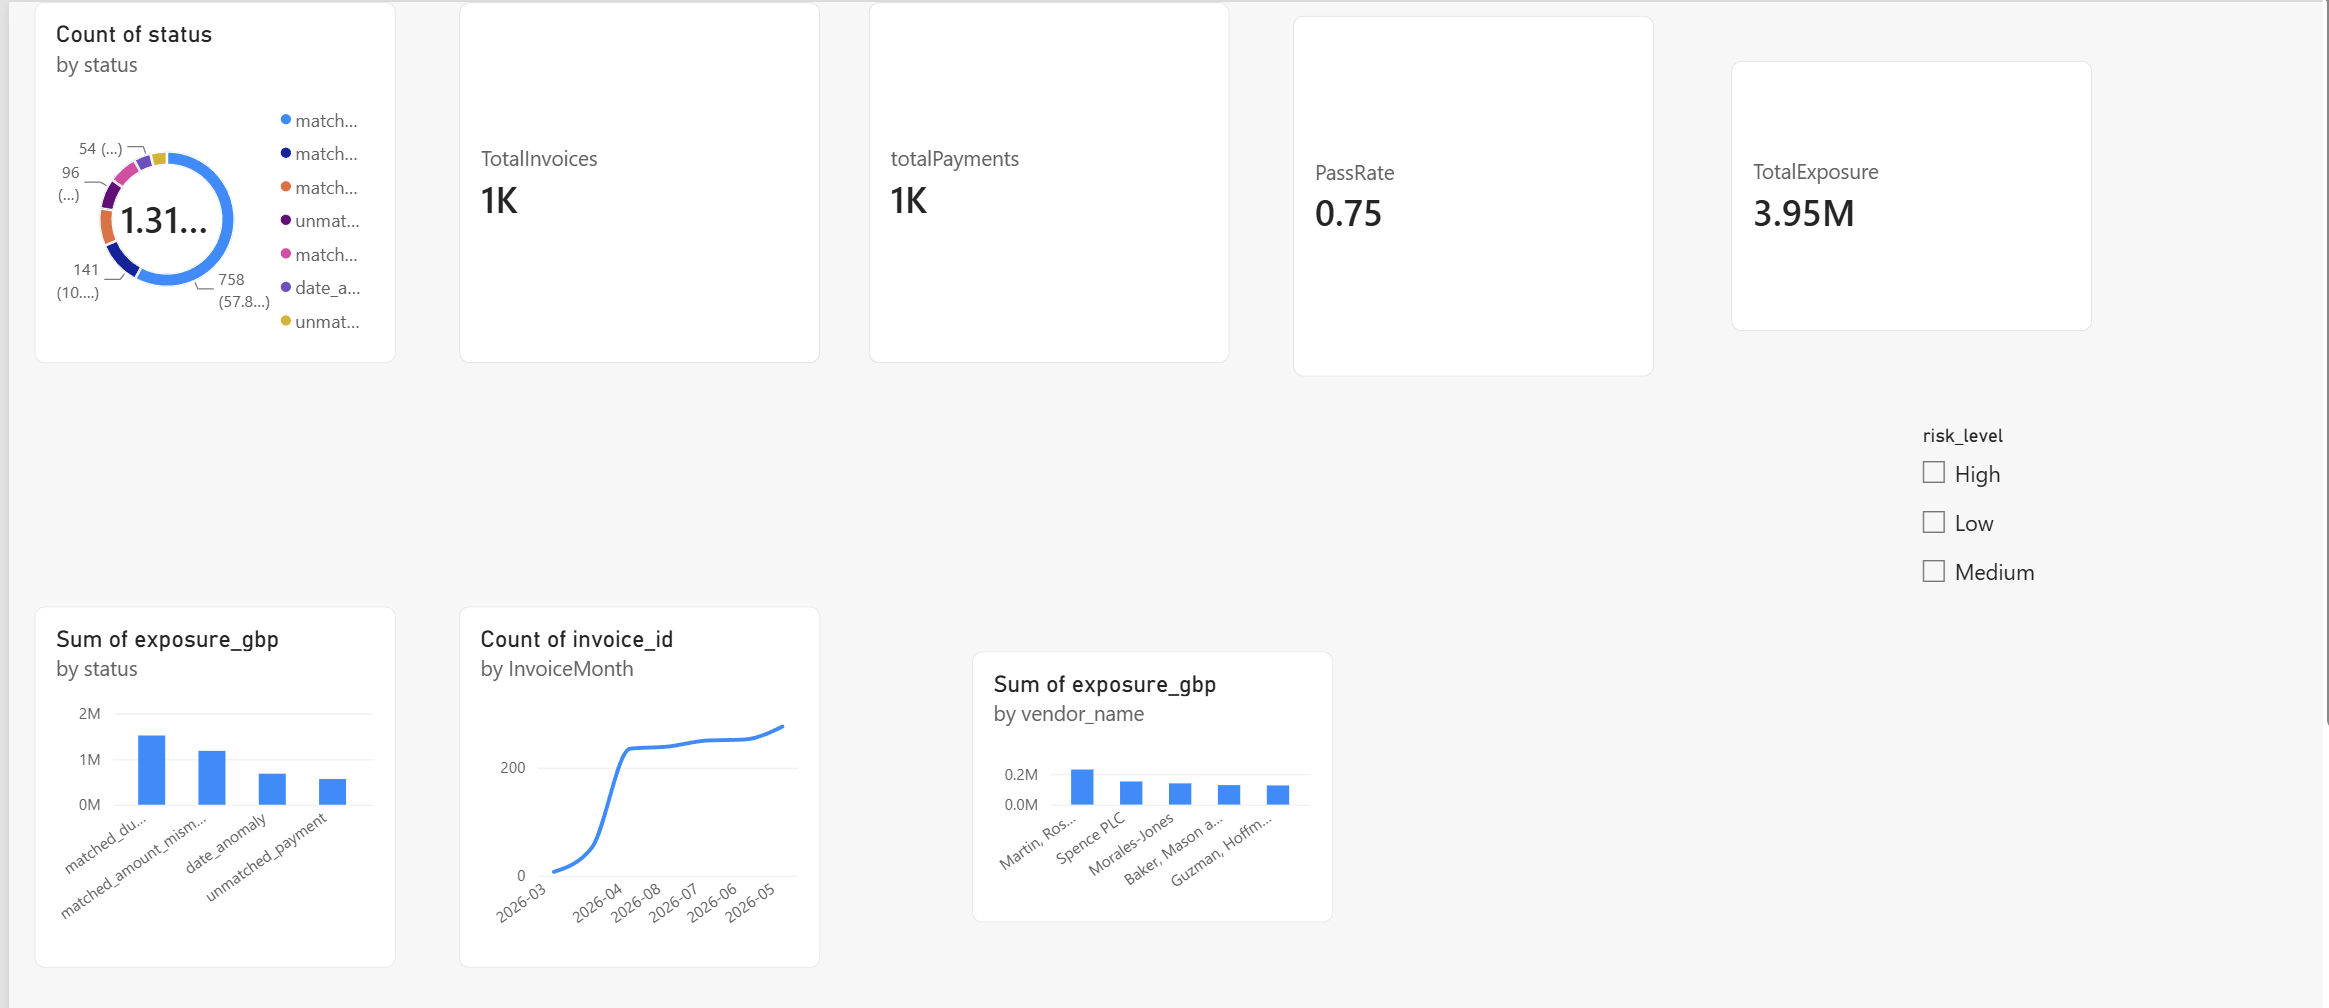

The dashboard page shown, as its layout file describes it:
{"tool":"powerbi","page":{"name":"Page 1","canvas":[1920,1080],"ordinal":0},"visuals":[{"type":"donutChart","fields":{"Category":["master_reconciliation_export.status"],"Y":["CountNonNull(master_reconciliation_export.status)"]},"box":[20,0,280,280],"z":0},{"type":"clusteredColumnChart","fields":{"Category":["master_reconciliation_export.status"],"Y":["Sum(master_reconciliation_export.exposure_gbp)"]},"box":[20,468.3,280,280],"z":1000},{"type":"lineChart","fields":{"Category":["master_reconciliation_export.InvoiceMonth"],"Y":["CountNonNull(master_reconciliation_export.invoice_id)"]},"box":[348.3,468.3,280,280],"z":2000},{"type":"clusteredColumnChart","fields":{"Category":["master_reconciliation_export.vendor_name"],"Y":["Sum(master_reconciliation_export.exposure_gbp)"]},"box":[746.7,503.3,280,210],"z":2001},{"type":"cardVisual","fields":{"Data":["master_reconciliation_export.TotalInvoices"]},"box":[348.3,0,280,280],"z":2002},{"type":"cardVisual","fields":{"Data":["master_reconciliation_export.totalPayments"]},"box":[666.7,0,280,280],"z":2003},{"type":"cardVisual","fields":{"Data":["master_reconciliation_export.PassRate"]},"box":[995,10,280,280],"z":2004},{"type":"cardVisual","fields":{"Data":["master_reconciliation_export.TotalExposure"]},"box":[1335,45,280,210],"z":2005},{"type":"slicer","fields":{"Values":["master_reconciliation_export.risk_level"]},"box":[1475,328.3,280,280],"z":2006}]}

Visuals, with their boxes on the page's 1920x1080 design canvas (x1, y1, x2, y2). These are canvas units, not pixel positions in the 2329x1008 screenshot, which may show the page scaled, cropped or inside an application window:
donutChart - master_reconciliation_export.status x CountNonNull(master_reconciliation_export.status): pyautogui.locateOnScreen(20, 0, 300, 280)
clusteredColumnChart - master_reconciliation_export.status x Sum(master_reconciliation_export.exposure_gbp): pyautogui.locateOnScreen(20, 468, 300, 748)
lineChart - master_reconciliation_export.InvoiceMonth x CountNonNull(master_reconciliation_export.invoice_id): pyautogui.locateOnScreen(348, 468, 628, 748)
clusteredColumnChart - master_reconciliation_export.vendor_name x Sum(master_reconciliation_export.exposure_gbp): pyautogui.locateOnScreen(747, 503, 1027, 713)
cardVisual - master_reconciliation_export.TotalInvoices: pyautogui.locateOnScreen(348, 0, 628, 280)
cardVisual - master_reconciliation_export.totalPayments: pyautogui.locateOnScreen(667, 0, 947, 280)
cardVisual - master_reconciliation_export.PassRate: pyautogui.locateOnScreen(995, 10, 1275, 290)
cardVisual - master_reconciliation_export.TotalExposure: pyautogui.locateOnScreen(1335, 45, 1615, 255)
slicer - master_reconciliation_export.risk_level: pyautogui.locateOnScreen(1475, 328, 1755, 608)
